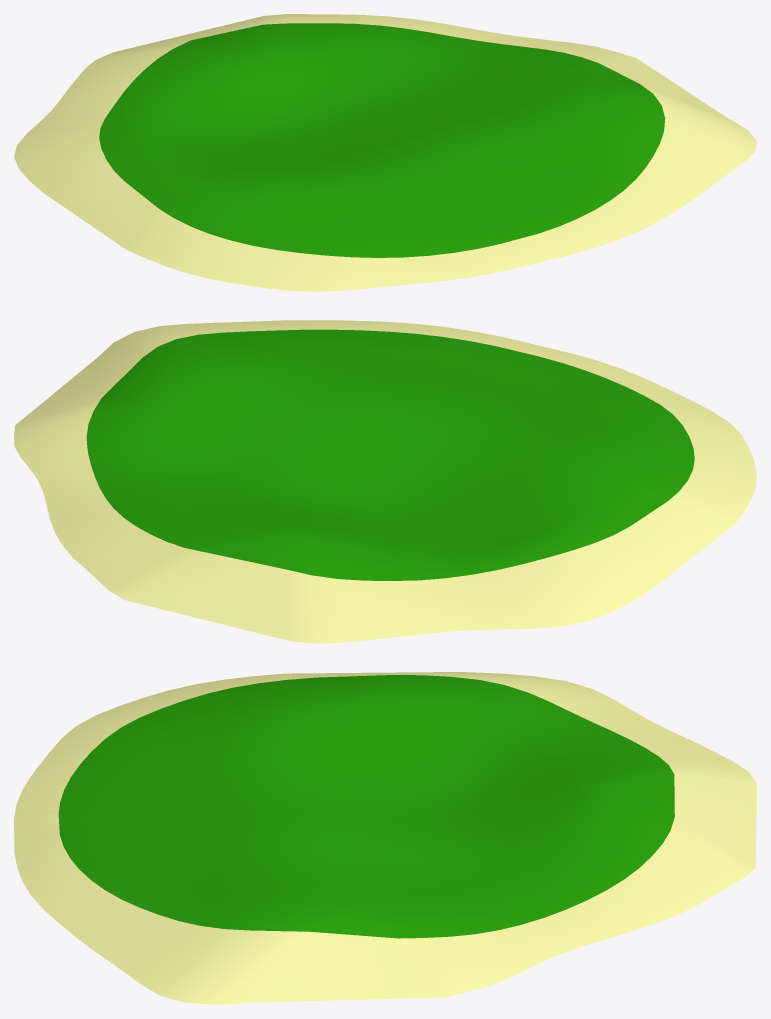
Rendered from Island3.fbx.
3 renders of one model, top to bottom at view 1: azimuth 30°, elevation 25°; view 2: azimuth 150°, elevation 25°; view 3: azimuth 270°, elevation 25°, orthographic. The views are drawn at different scales.
Parts seen in each view (by area): view 1: Mesh_Generator; view 2: Mesh_Generator; view 3: Mesh_Generator.
Boxes of the visible parts, left/top/right/bottom form: Mesh_Generator: left=14, top=14, right=756, bottom=291; Mesh_Generator: left=14, top=320, right=756, bottom=643; Mesh_Generator: left=14, top=672, right=756, bottom=1004.
Size of the model in its own units: 2457 by 131 by 2333.
